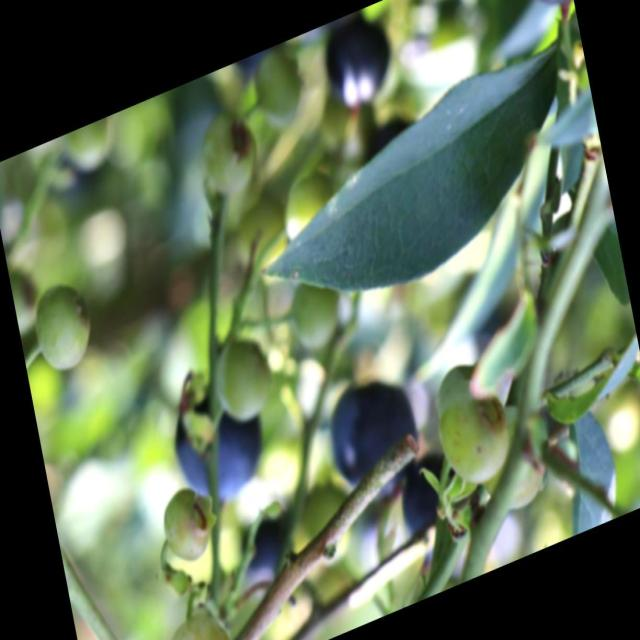blueberry: (163, 366, 277, 516), (319, 361, 426, 519), (395, 436, 475, 548), (324, 7, 399, 115), (232, 504, 300, 604), (507, 0, 574, 24)
blueberry-unripe: (432, 377, 519, 492), (207, 326, 281, 432), (28, 272, 98, 380), (196, 100, 264, 198), (155, 473, 221, 572), (276, 158, 343, 242), (287, 272, 346, 357), (252, 45, 309, 130), (160, 602, 239, 639)
